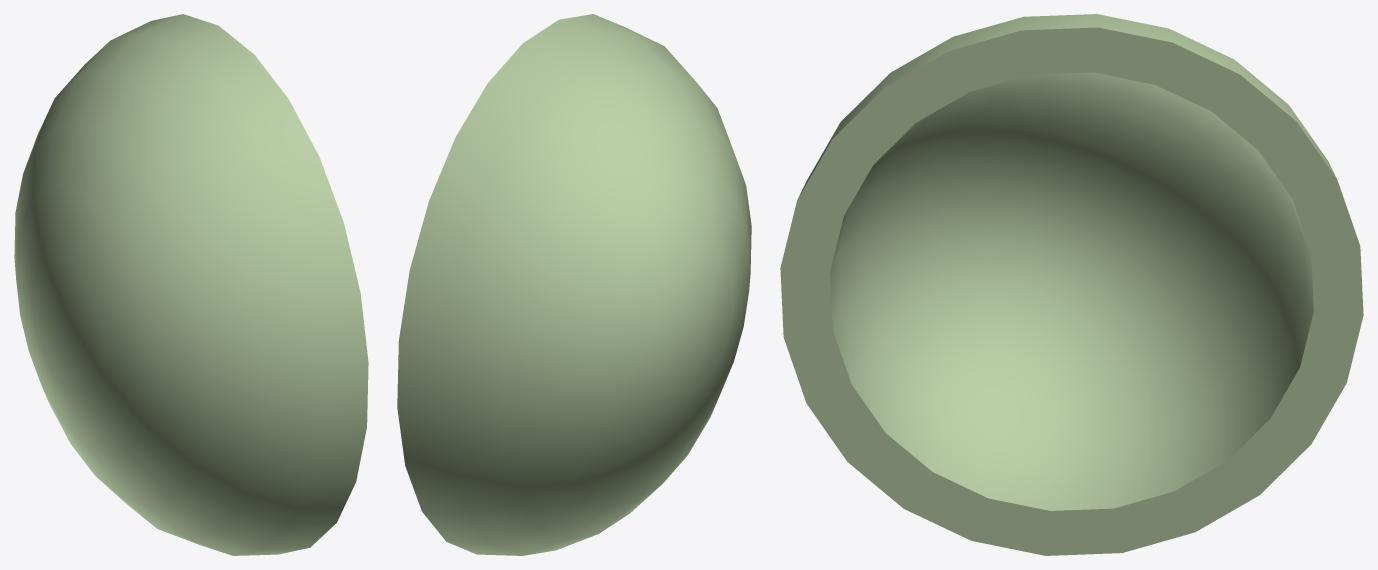
File: original-22.obj
The picture shows the model from 3 angles, left to right: view 1: azimuth 30°, elevation 25°; view 2: azimuth 150°, elevation 25°; view 3: azimuth 270°, elevation 25°; orthographic projection. The views are drawn at different scales.
Parts seen in each view (by area): view 1: Group23/mesh36/mesh36-geometry#mesh36-geometry; view 2: Group23/mesh36/mesh36-geometry#mesh36-geometry; view 3: Group23/mesh36/mesh36-geometry#mesh36-geometry.
Boxes of the visible parts, x1,y1,x2,y2 form: Group23/mesh36/mesh36-geometry#mesh36-geometry: (14, 14, 368, 555); Group23/mesh36/mesh36-geometry#mesh36-geometry: (397, 14, 751, 555); Group23/mesh36/mesh36-geometry#mesh36-geometry: (780, 14, 1363, 555).
Bounding box in the file's own units: 0.011 × 0.0313 × 0.0313.
